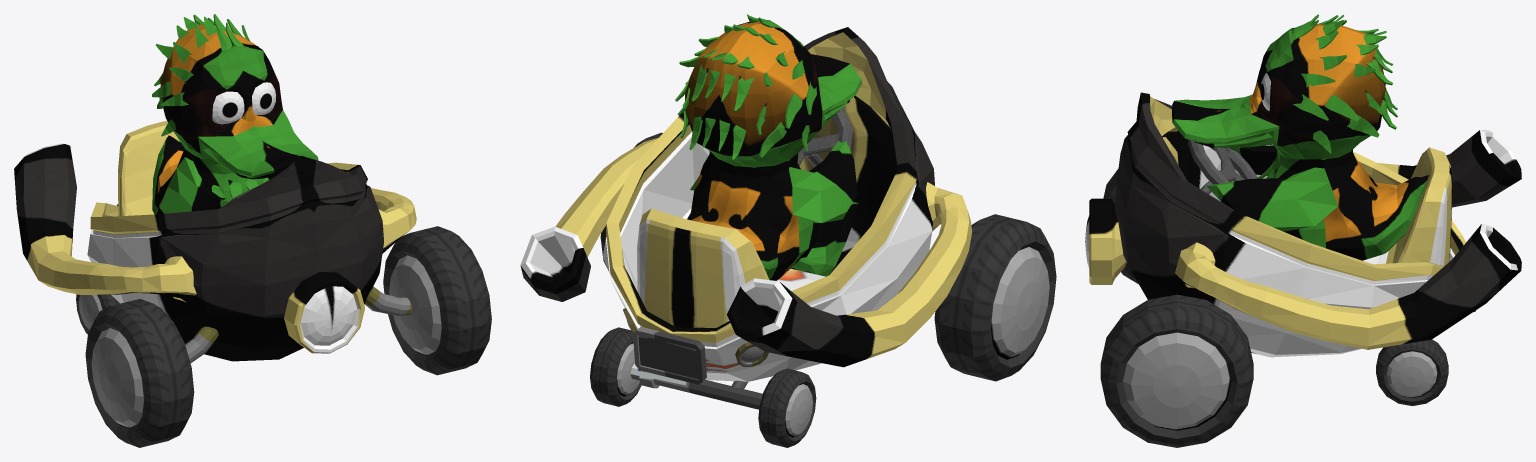
File: kart.glb
The picture shows the model from 3 angles, left to right: view 1: azimuth 30°, elevation 25°; view 2: azimuth 150°, elevation 25°; view 3: azimuth 270°, elevation 25°; orthographic projection. The views are drawn at different scales.
Visible parts, largest first — view 1: body (×4), wheel-front-left, wheel-front-right, wheel-rear-left; view 2: body (×3), wheel-front-left, wheel-rear-left, wheel-rear-right; view 3: body (×3), wheel-front-right, wheel-rear-right.
Boxes of the visible parts, x1,y1,x2,y2 form: body (×4): (14,14,416,362); wheel-front-left: (85,299,194,447); wheel-front-right: (383,226,491,375); wheel-rear-left: (76,294,119,334); body (×3): (520,14,972,409); wheel-front-left: (934,214,1056,381); wheel-rear-left: (758,368,816,447); wheel-rear-right: (590,327,641,406); body (×3): (1085,14,1521,357); wheel-front-right: (1100,294,1253,447); wheel-rear-right: (1376,339,1448,405).
Bounding box in the file's own units: 0.9413 × 0.828 × 0.9434.
Materials: 5 (5 with a texture image).
